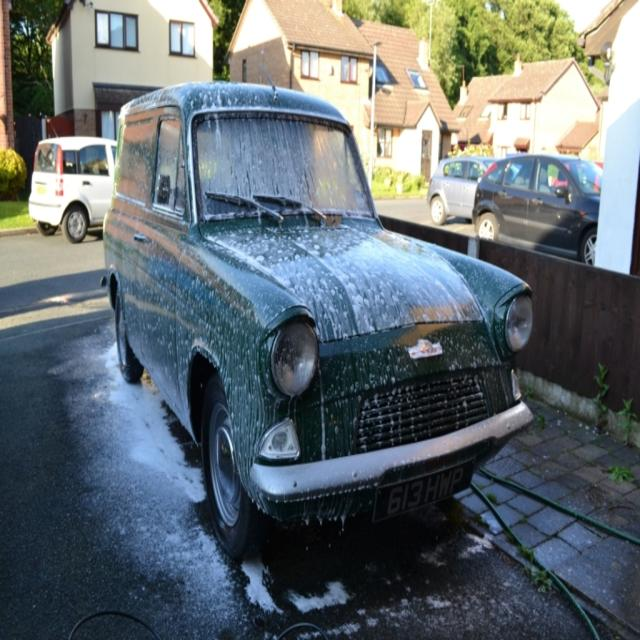car: (104, 78, 532, 541), (470, 146, 596, 244), (21, 133, 117, 237)
